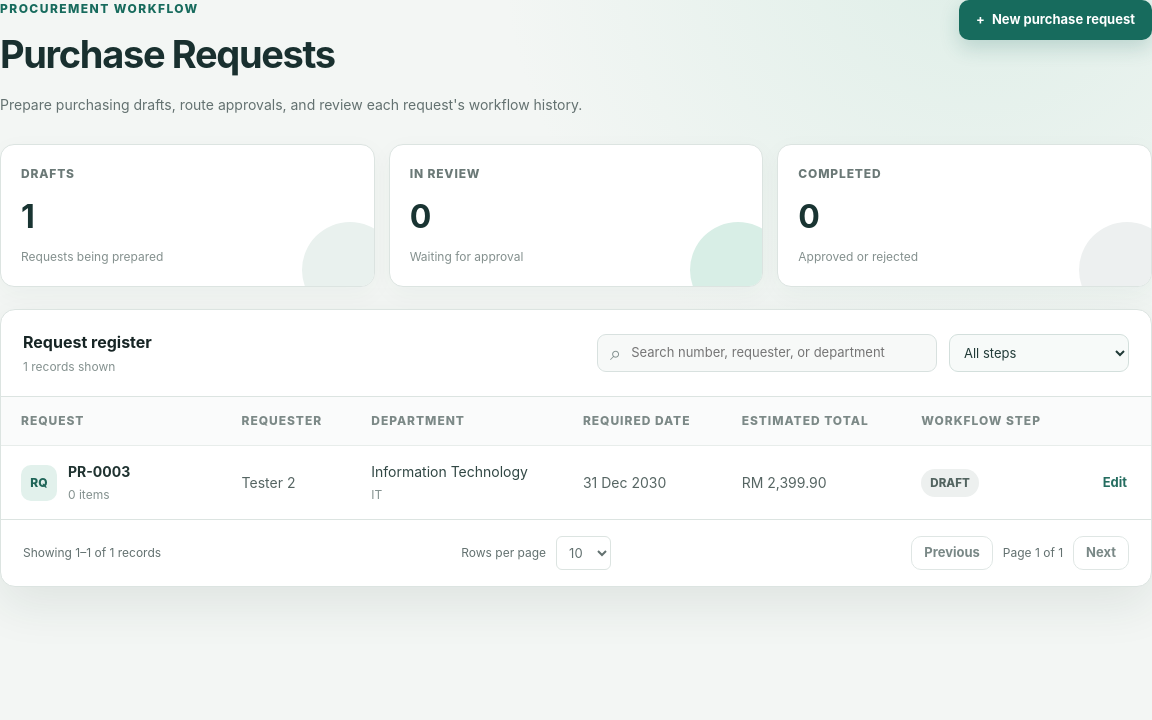
Test: PurchaseRequestListView › shows only Edit for a draft assigned to the signed-in requester
Step 1. Click the button "Edit" → click(1115, 483), box [1099, 469, 1131, 496]
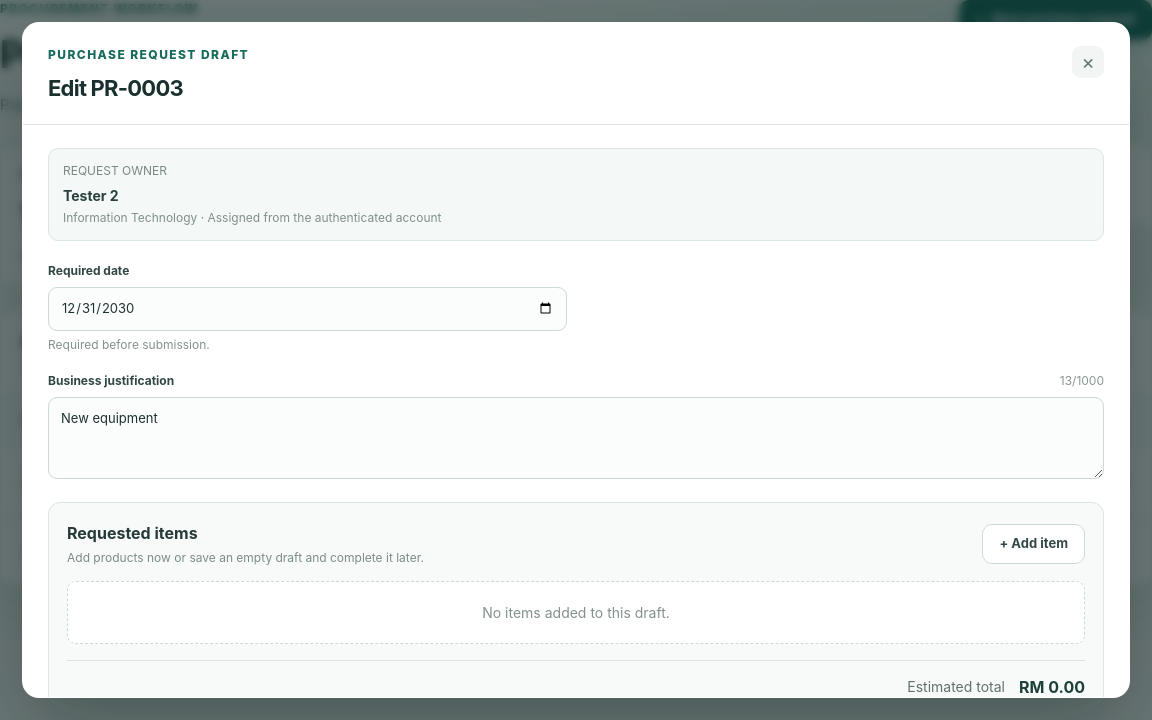
Expected: the element that starts with "Purchase request draft" is shown
Expected: the dialog shows "Edit PR-0003", [48, 75, 183, 101]
